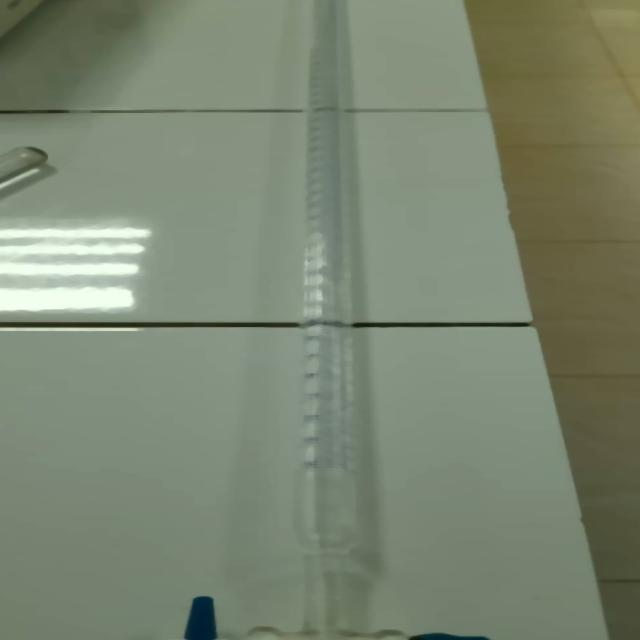Biurette: (135, 0, 531, 640)
